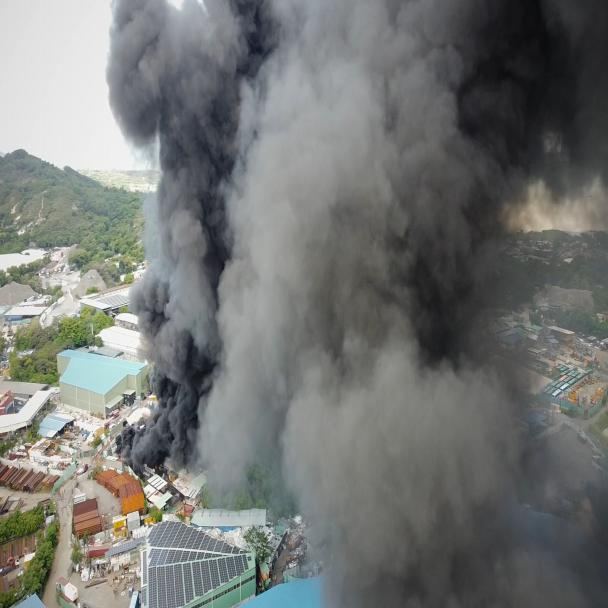smoke: (98, 3, 604, 603)
